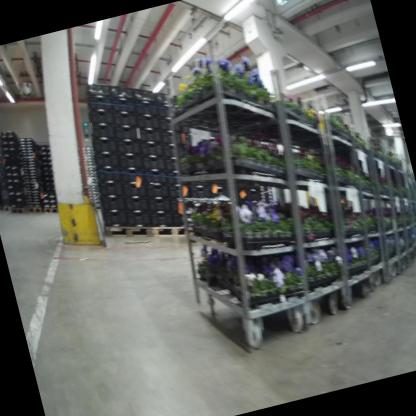pallet: (101, 210, 153, 249), (147, 211, 196, 246), (7, 201, 29, 216), (27, 203, 45, 218), (44, 203, 61, 214), (0, 204, 13, 215)
